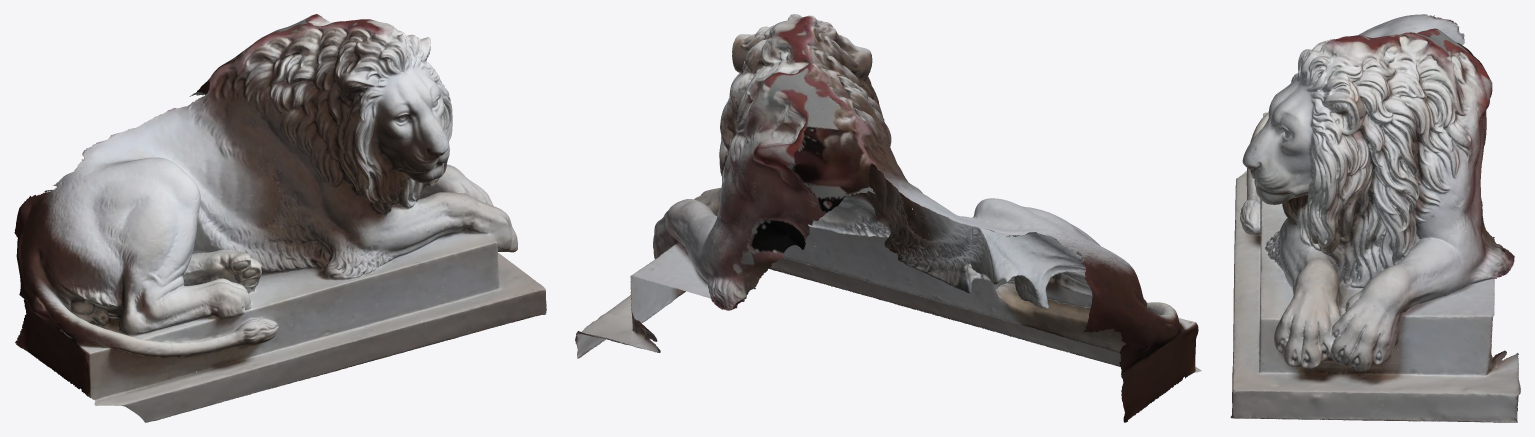
The model's file is recumbent_lion-transformed.glb.
3 renders of one model, left to right at view 1: azimuth 30°, elevation 25°; view 2: azimuth 150°, elevation 25°; view 3: azimuth 270°, elevation 25°, orthographic. The views are drawn at different scales.
Parts seen in each view (by area): view 1: Object_3, Object_4, Object_2, Object_5; view 2: Object_4, Object_3, Object_2, Object_5; view 3: Object_4, Object_3, Object_2, Object_5.
Boxes of the visible parts, box(x1,y1,x2,y2) form: Object_3: box(14, 79, 546, 422); Object_4: box(133, 14, 427, 415); Object_2: box(197, 35, 470, 275); Object_5: box(193, 15, 527, 319); Object_4: box(575, 72, 1120, 367); Object_3: box(653, 78, 1201, 422); Object_2: box(674, 67, 928, 273); Object_5: box(653, 14, 996, 288); Object_4: box(1233, 37, 1520, 422); Object_3: box(1230, 14, 1489, 420); Object_2: box(1253, 28, 1492, 292); Object_5: box(1236, 29, 1450, 396).
Size of the model in its own units: 35492 by 21198 by 17053.
1 material, 1 textured.
